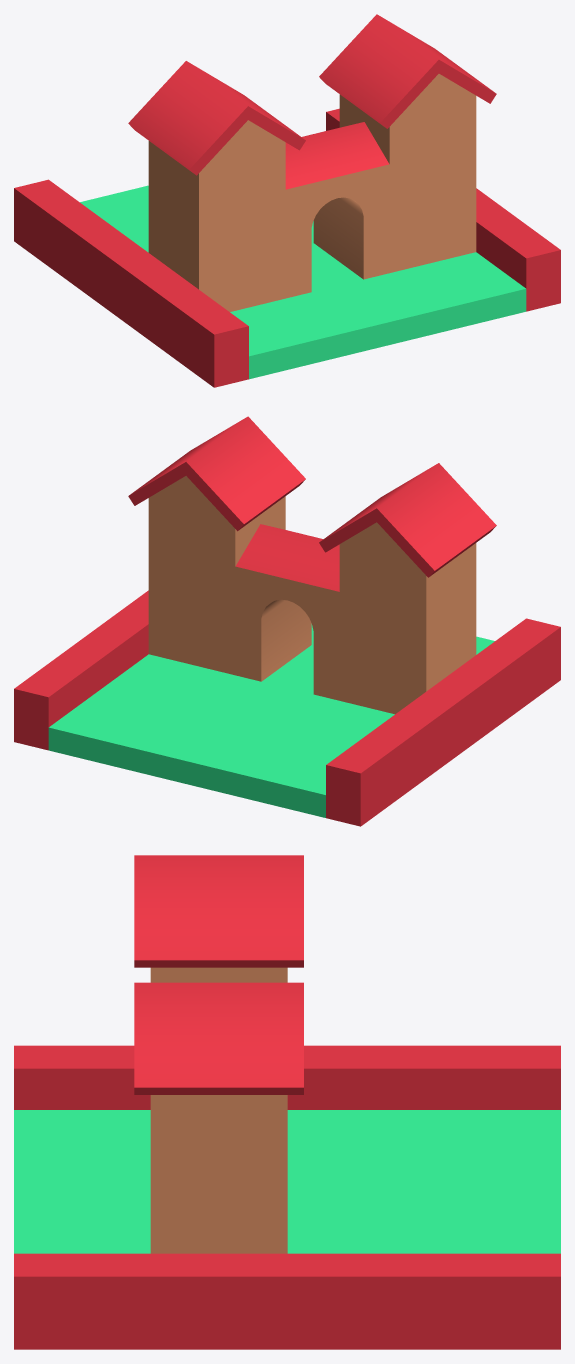
The model's file is castle.fbx.
3 views of the same model, one above another, from view 1: azimuth 30°, elevation 25°; view 2: azimuth 150°, elevation 25°; view 3: azimuth 270°, elevation 25° (orthographic). The views are drawn at different scales.
Parts seen in each view (by area): view 1: castle; view 2: castle; view 3: castle.
Part boxes in pixels (x1,y1,x2,y2): castle: (14,14,560,387); castle: (14,416,560,826); castle: (14,855,560,1349).
Bounding box in the file's own units: 10 × 6.35 × 10.
